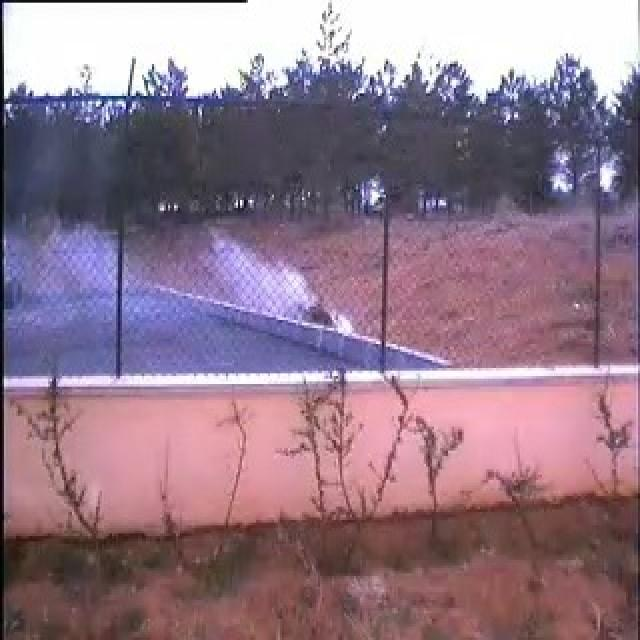smoke: (44, 192, 329, 366)
